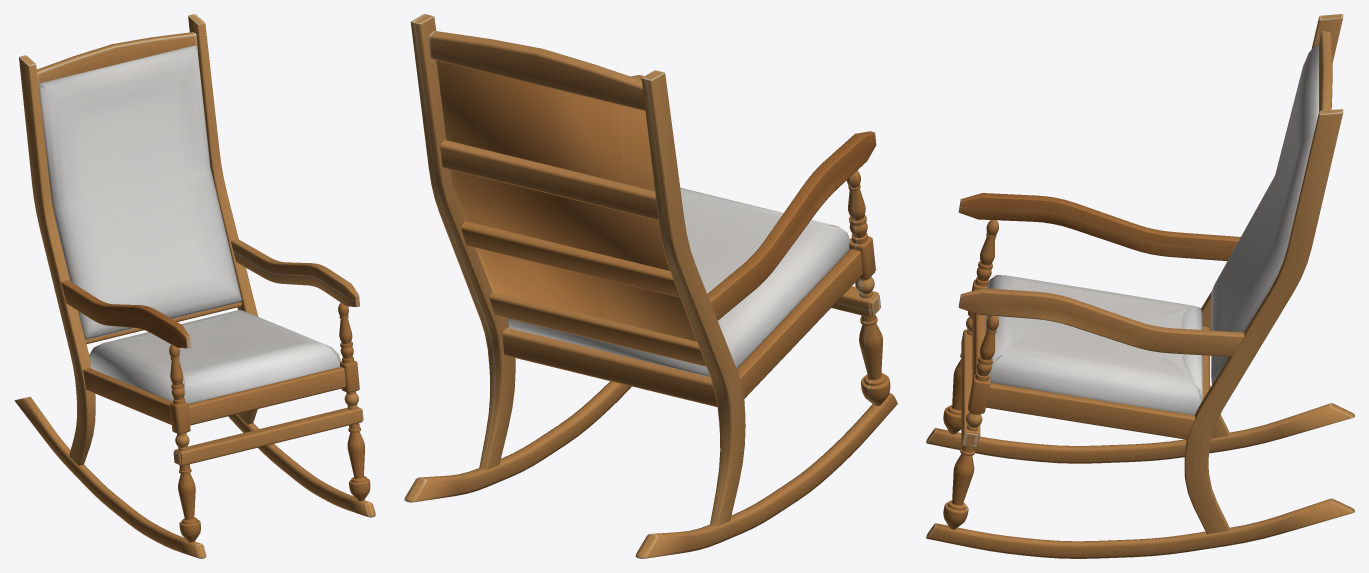
3 views of the same model, side by side, from view 1: azimuth 30°, elevation 25°; view 2: azimuth 150°, elevation 25°; view 3: azimuth 270°, elevation 25° (orthographic). The views are drawn at different scales.
Parts seen in each view (by area): view 1: 897ce33a65d04bb69eb3d87d0742464f; view 2: 897ce33a65d04bb69eb3d87d0742464f; view 3: 897ce33a65d04bb69eb3d87d0742464f.
Boxes of the visible parts, left/top/right/bottom form: 897ce33a65d04bb69eb3d87d0742464f: left=14, top=14, right=375, bottom=558; 897ce33a65d04bb69eb3d87d0742464f: left=404, top=14, right=897, bottom=558; 897ce33a65d04bb69eb3d87d0742464f: left=926, top=14, right=1354, bottom=558.
Size of the model in its own units: 0.5071 by 1 by 0.8696.
1 material, 1 textured.
